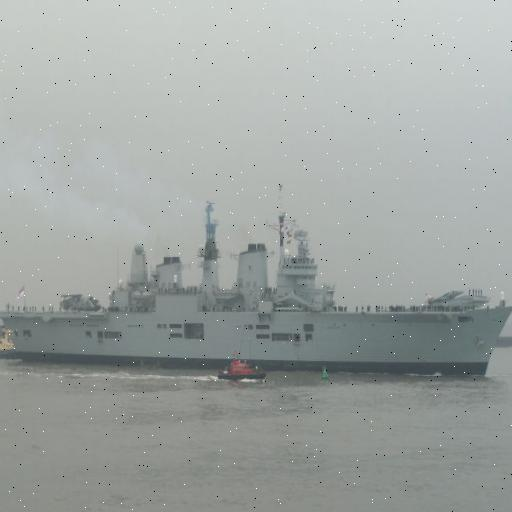Portanaves: (1, 188, 512, 372)
